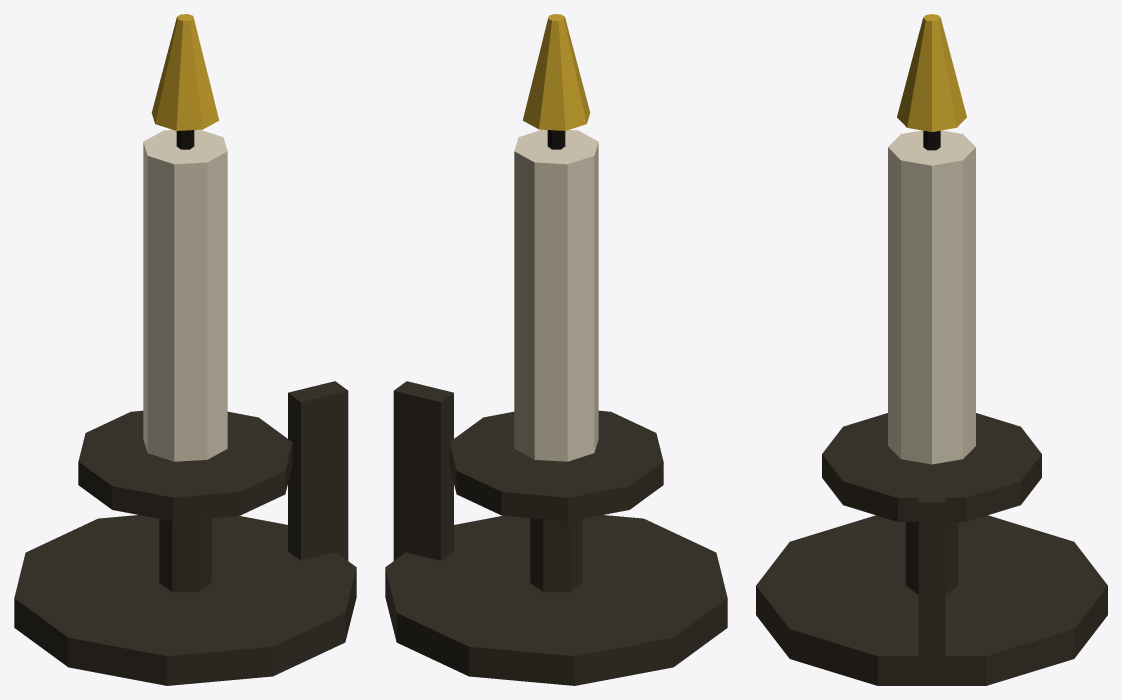
The model's file is LairCandle.fbx.
The picture shows the model from 3 angles, left to right: view 1: azimuth 30°, elevation 25°; view 2: azimuth 150°, elevation 25°; view 3: azimuth 270°, elevation 25°; orthographic projection.
Visible parts, largest first — view 1: LairCandle; view 2: LairCandle; view 3: LairCandle.
Part boxes in pixels (box(x1,y1,x2,y2)): LairCandle: box(14, 14, 356, 685); LairCandle: box(385, 14, 727, 685); LairCandle: box(756, 14, 1107, 685).
Bounding box in the file's own units: 15.86 × 30 × 16.
Materials: 4 (4 with a texture image).
